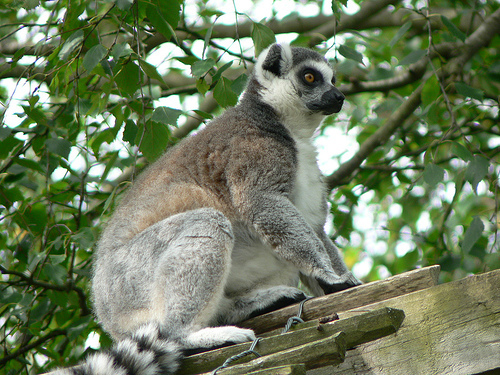cat: (41, 37, 347, 373)
